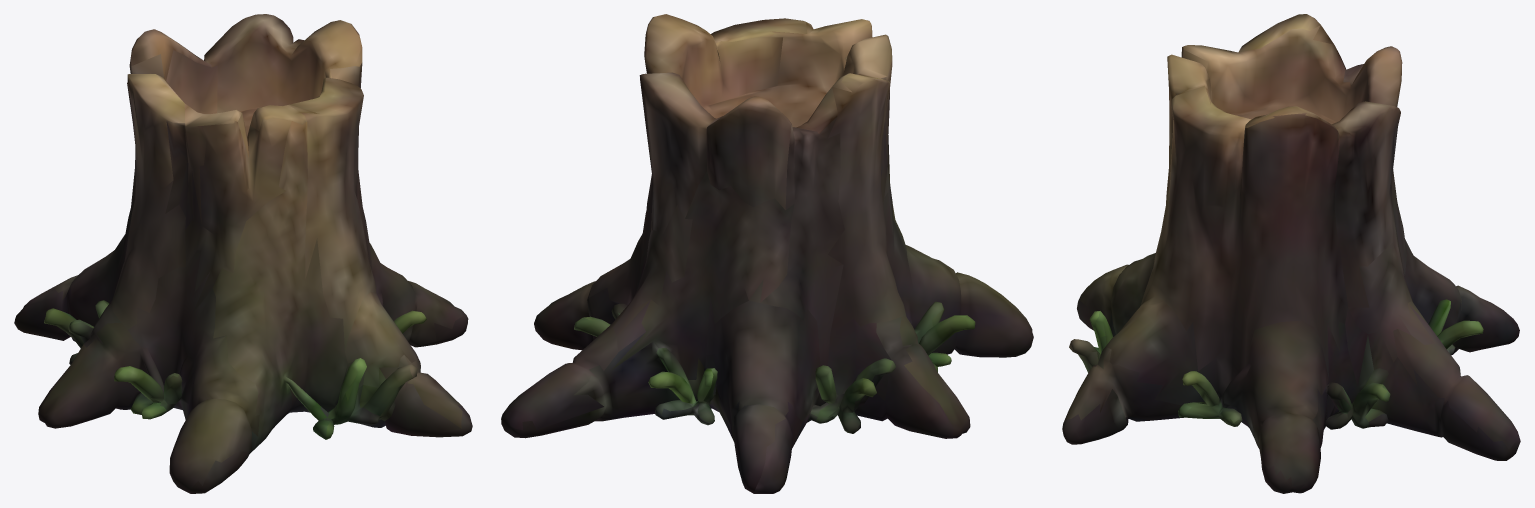
Rendered from f10_toco.glb.
3 views of the same model, side by side, from view 1: azimuth 30°, elevation 25°; view 2: azimuth 150°, elevation 25°; view 3: azimuth 270°, elevation 25° (orthographic). The views are drawn at different scales.
Visible parts, largest first — view 1: f10_toco; view 2: f10_toco; view 3: f10_toco.
Part boxes in pixels (box(x1,y1,x2,y2)): f10_toco: box(14, 14, 472, 493); f10_toco: box(501, 14, 1033, 493); f10_toco: box(1062, 14, 1520, 493).
Size of the model in its own units: 0.6338 by 0.4868 by 0.6066.
1 material, 1 textured.
